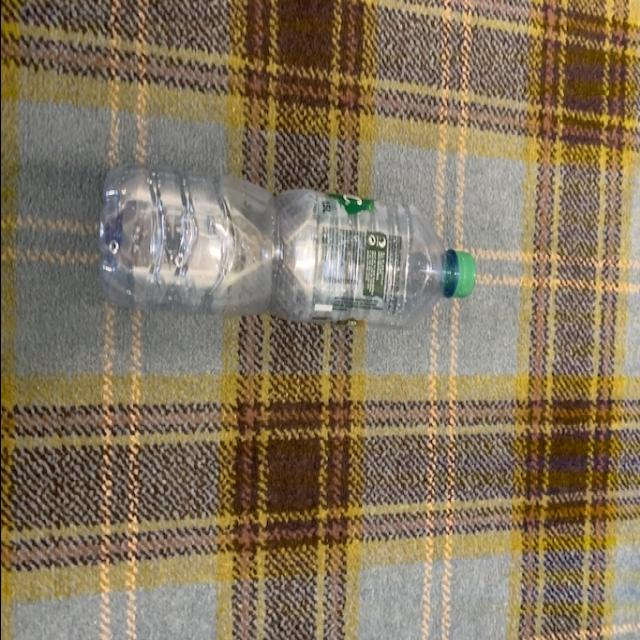PET: (93, 162, 477, 342)
